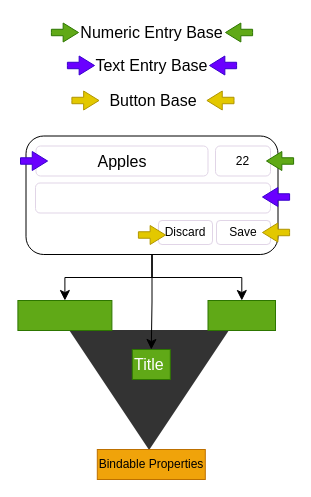
Image size: 311x497. Some labels were removed from this diagram. The box of each missing label's shape, as (x1, y1, x2, y2) in pixels:
additional description: (34, 182, 270, 213)
Descriptions: (17, 300, 112, 330)
Quantity: (207, 300, 276, 330)
